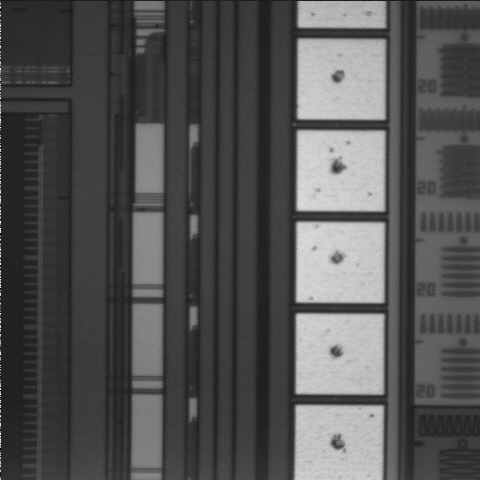pad: (297, 222, 384, 303), (297, 131, 384, 211), (296, 314, 383, 394), (298, 40, 384, 119)
